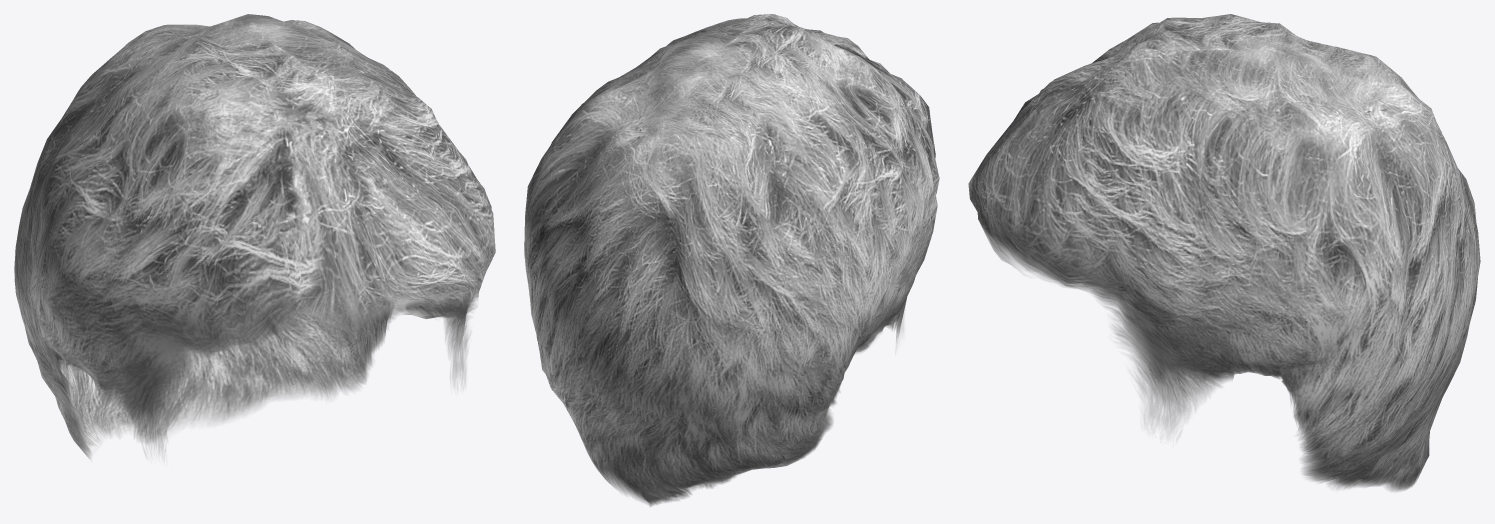
Rendered from hair_short02.gltf.
The picture shows the model from 3 angles, left to right: view 1: azimuth 30°, elevation 25°; view 2: azimuth 150°, elevation 25°; view 3: azimuth 270°, elevation 25°; orthographic projection. The views are drawn at different scales.
Visible parts, largest first — view 1: hair_short02; view 2: hair_short02; view 3: hair_short02.
Part boxes in pixels (x1,y1,x2,y2): hair_short02: [14, 14, 495, 461]; hair_short02: [524, 14, 939, 506]; hair_short02: [968, 14, 1480, 491].
Size of the model in its own units: 0.173 by 0.1999 by 0.2082.
Materials: 1 (1 with a texture image).
